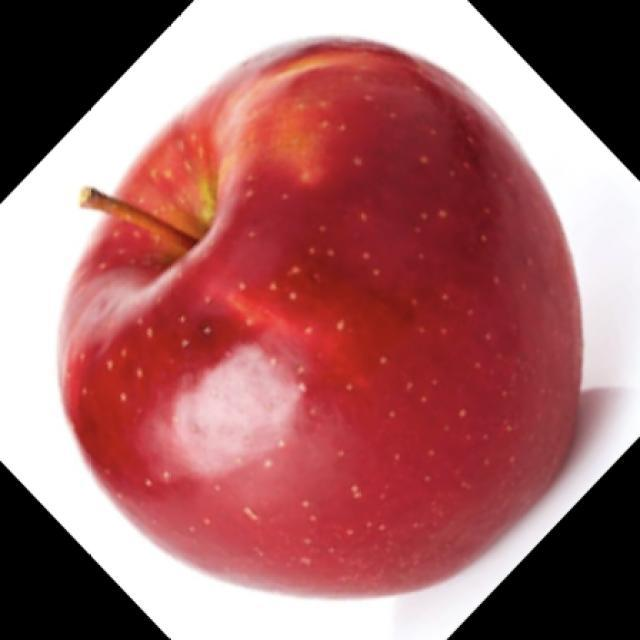Fresh Apple: (58, 32, 590, 602)
